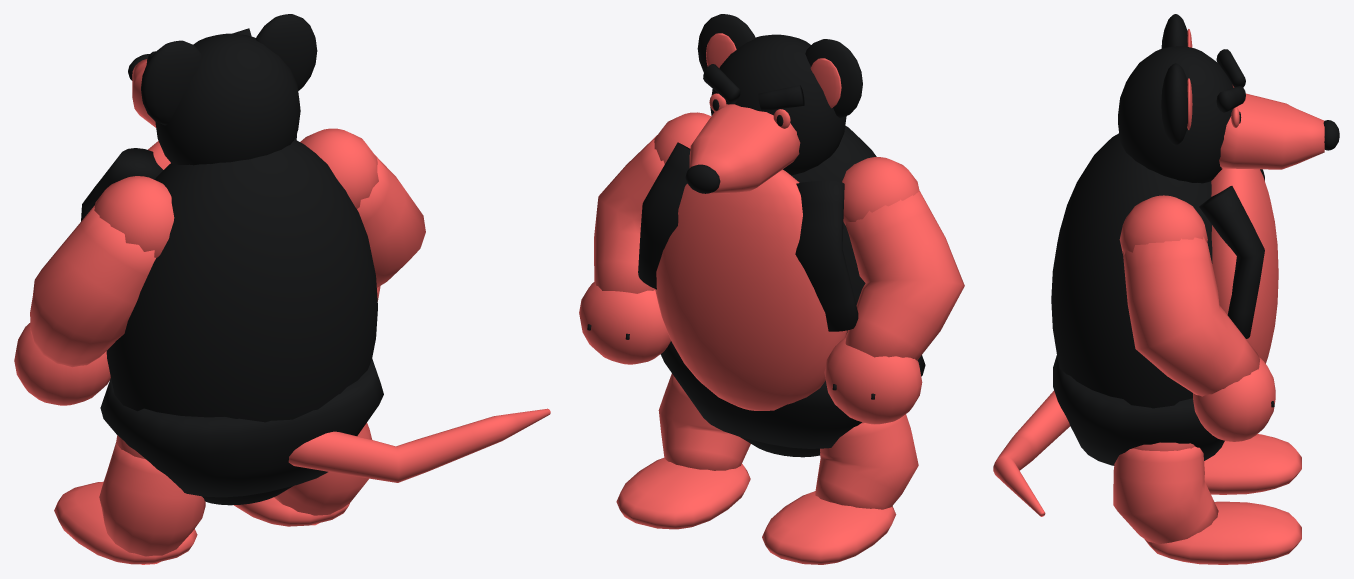
The model's file is BigBlag.glb.
The picture shows the model from 3 angles, left to right: view 1: azimuth 30°, elevation 25°; view 2: azimuth 150°, elevation 25°; view 3: azimuth 270°, elevation 25°; orthographic projection. The views are drawn at different scales.
Parts seen in each view (by area): view 1: Body, LeftArm, Head, LeftLeg, Tail, RightArm, RightLeg; view 2: Body, LeftArm, Head, LeftLeg, RightArm, RightLeg; view 3: Body, RightArm, Head, RightLeg, LeftLeg, Tail.
Boxes of the visible parts, <box> form: Body: <box>81,133,383,505</box>; LeftArm: <box>14,176,174,405</box>; Head: <box>128,14,317,165</box>; LeftLeg: <box>54,435,205,564</box>; Tail: <box>288,408,550,482</box>; RightArm: <box>300,128,425,301</box>; RightLeg: <box>233,423,372,526</box>; Body: <box>638,125,925,457</box>; LeftArm: <box>824,157,964,424</box>; Head: <box>685,14,862,193</box>; LeftLeg: <box>762,414,918,564</box>; RightArm: <box>579,112,710,364</box>; RightLeg: <box>616,373,750,529</box>; Body: <box>1051,133,1278,465</box>; RightArm: <box>1119,195,1275,441</box>; Head: <box>1118,14,1339,183</box>; RightLeg: <box>1113,442,1301,564</box>; LeftLeg: <box>1204,434,1301,494</box>; Tail: <box>993,390,1069,516</box>.
Bounding box in the file's own units: 2.01 × 2.27 × 1.49.
1 material, 1 textured.
